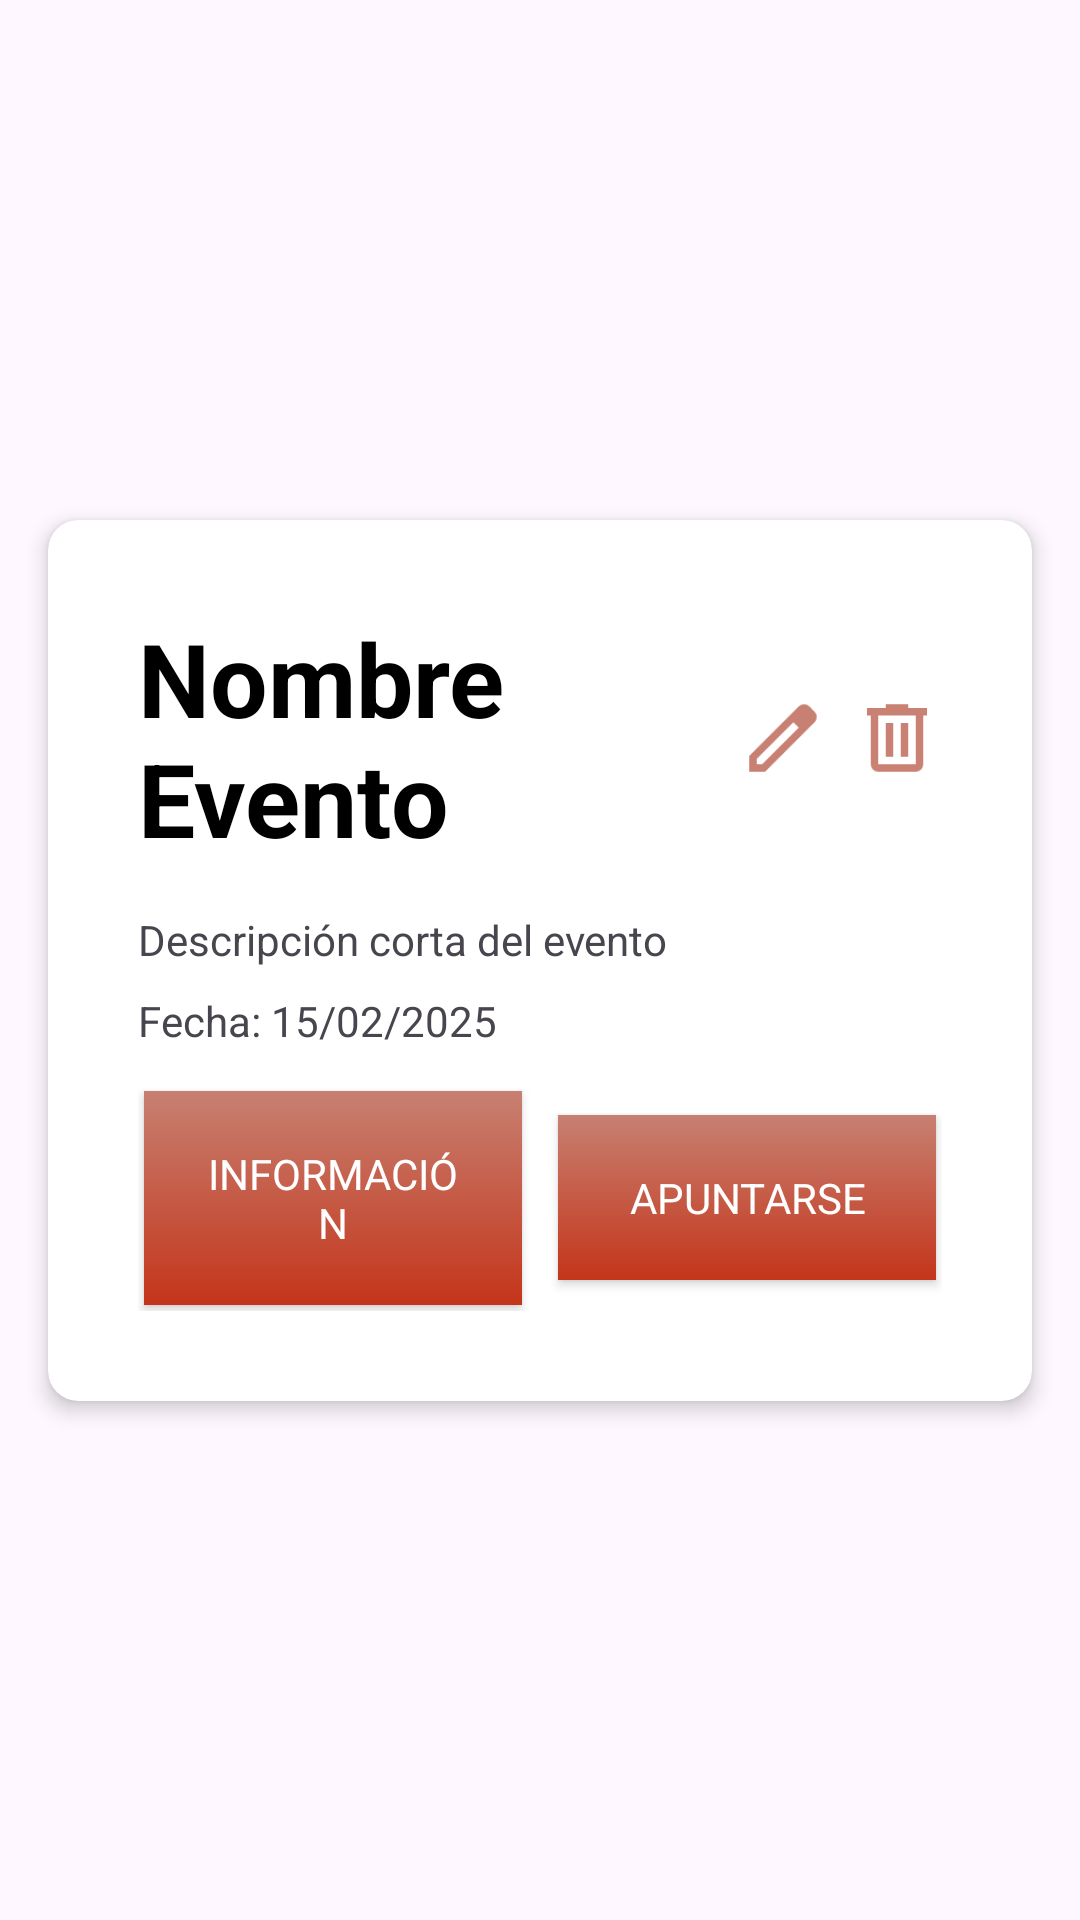

Icon bounding boxes for this 1080*1920 phone screenshot, format [x1, y1, x2, y2]:
delete: [867, 704, 927, 772]
edit: [749, 704, 817, 772]
